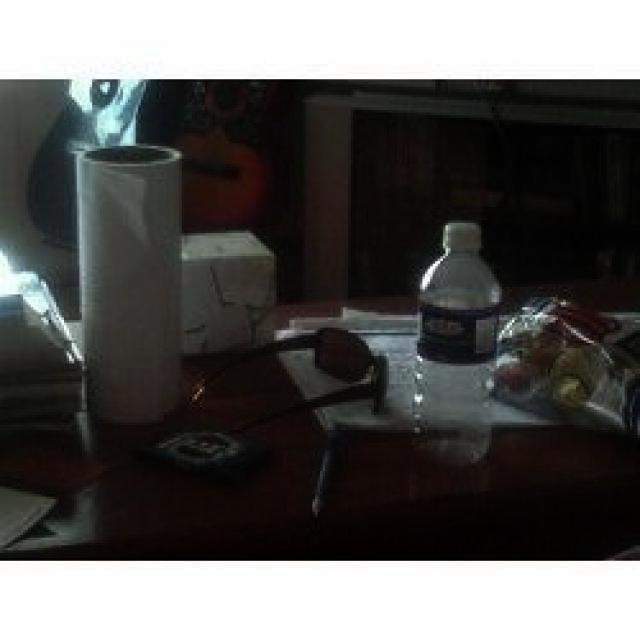bottle: (411, 222, 500, 466)
